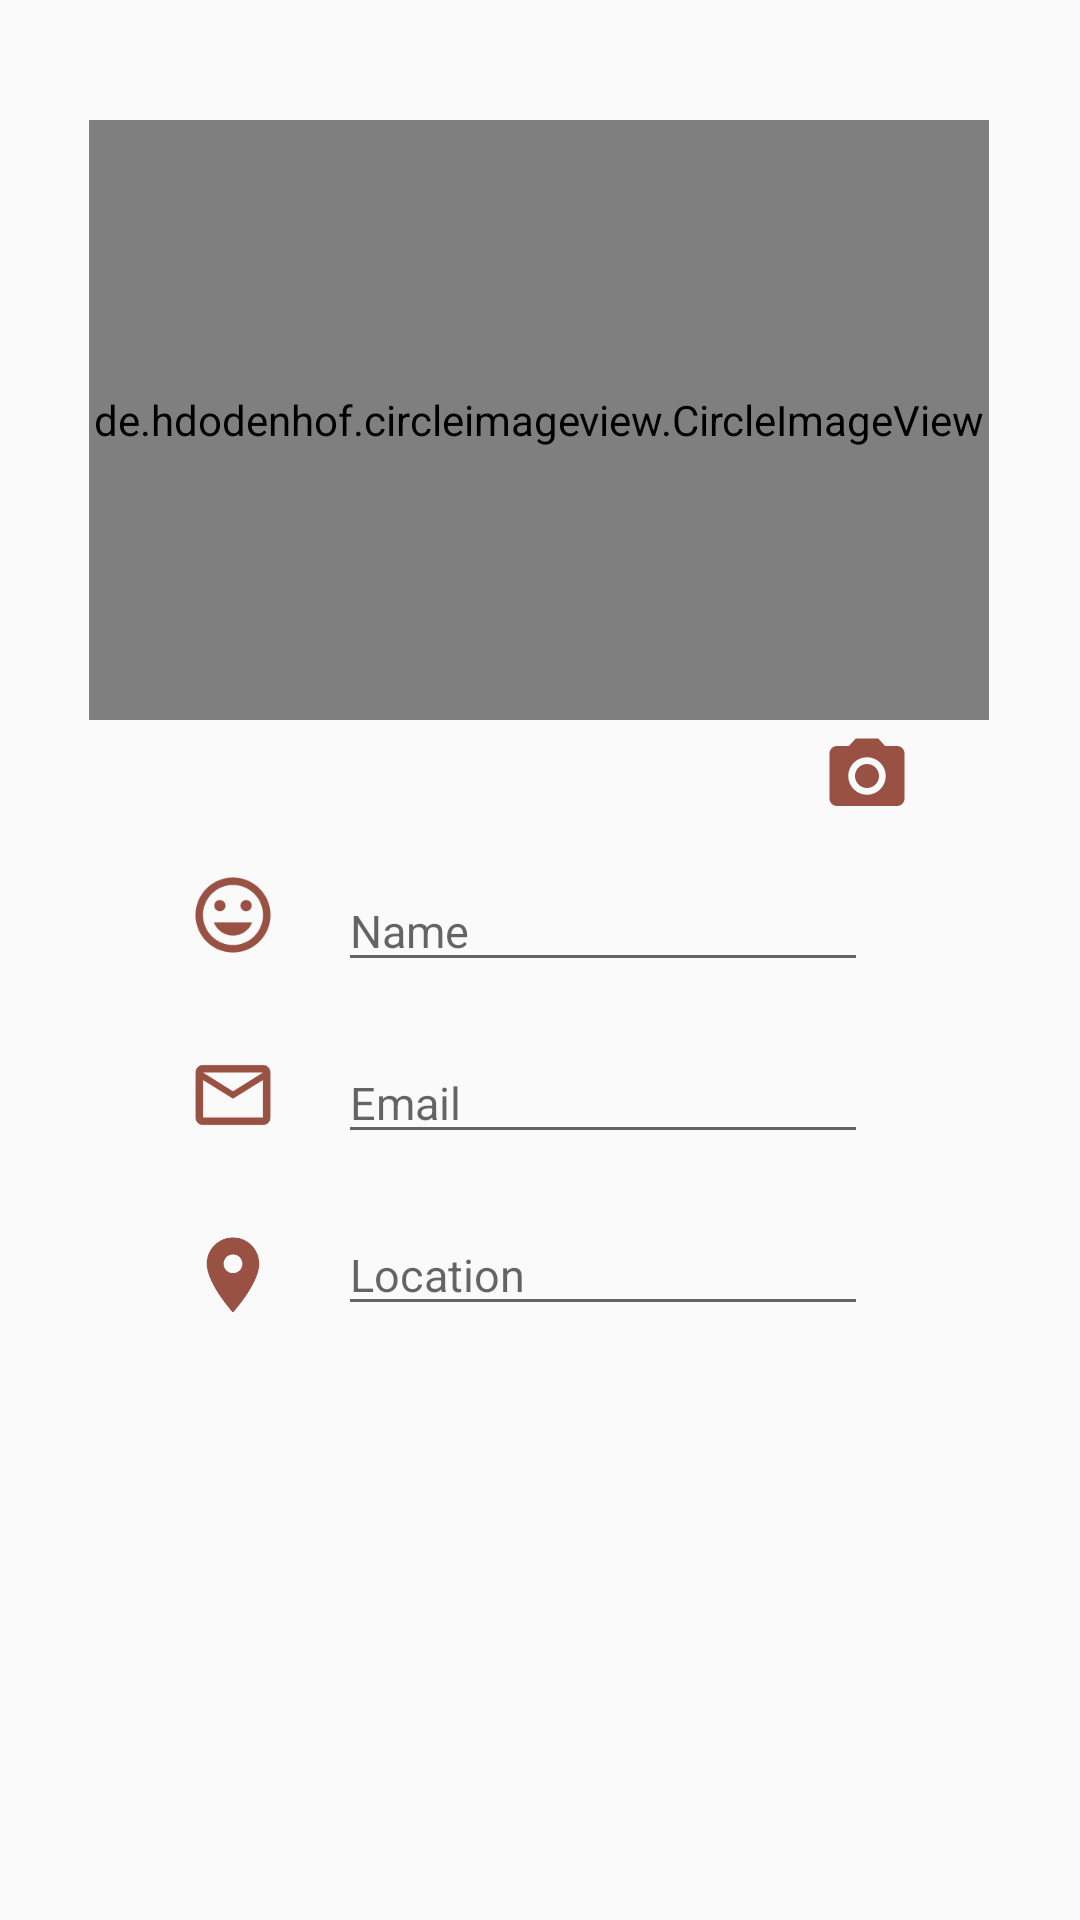

Icons on this 1080*1920 Android screen, each with its box as (x1, y1, x2, y2):
camera: (829, 738, 905, 806)
emoticon: (195, 877, 271, 953)
